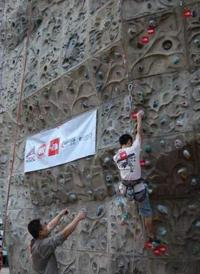person: (114, 111, 162, 245)
